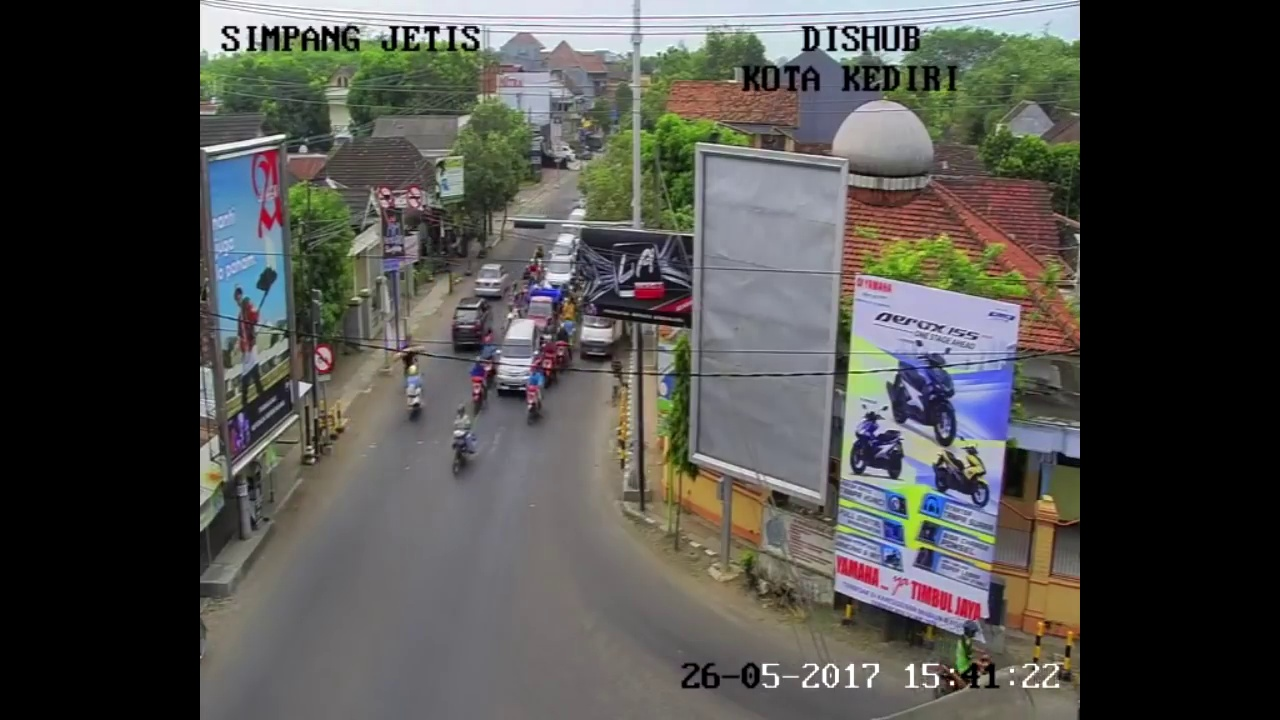car: (496, 319, 540, 396), (454, 294, 489, 354), (583, 311, 615, 364), (475, 262, 509, 303), (548, 254, 576, 292), (527, 294, 552, 333)
motorbike: (939, 622, 995, 699), (448, 405, 476, 475), (407, 366, 424, 420), (539, 336, 556, 384), (526, 369, 541, 421), (471, 357, 485, 410), (481, 334, 495, 384), (556, 327, 569, 371)
